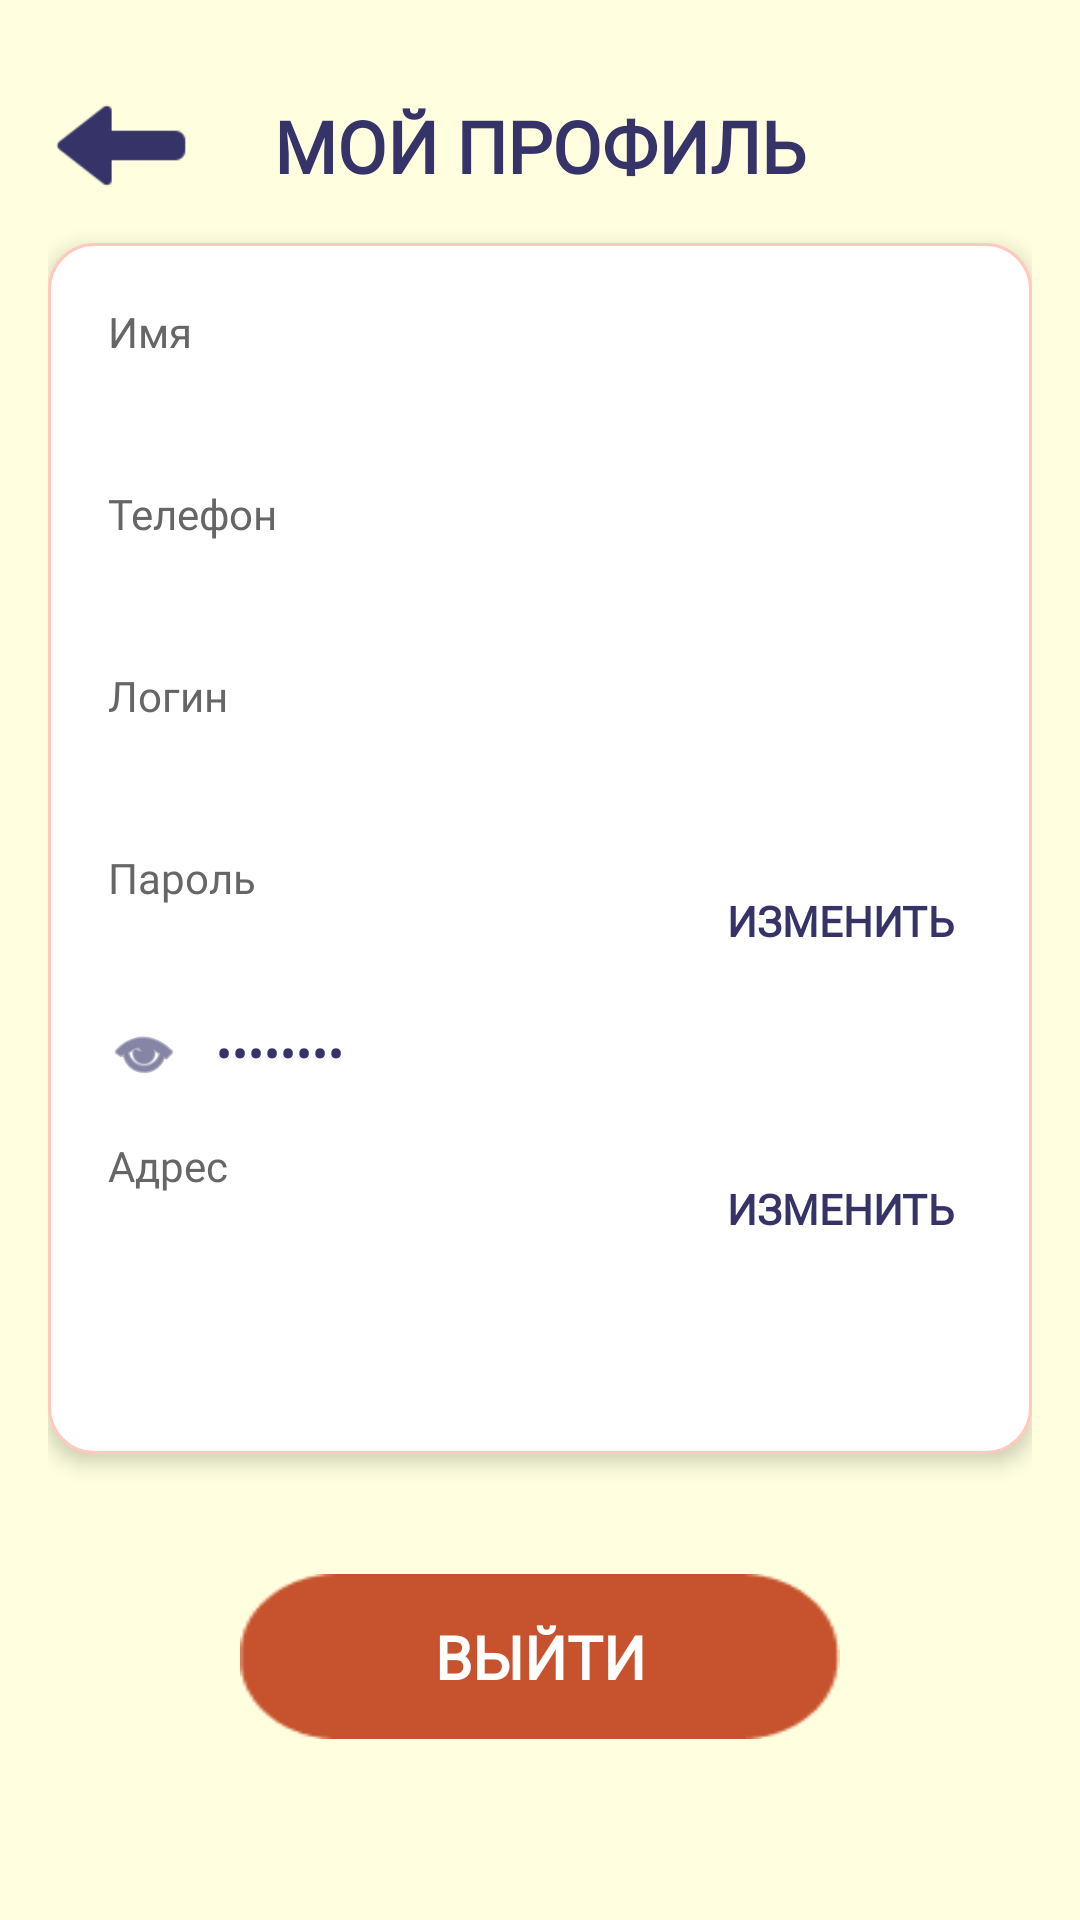

Icons on this 1080x1920 Android screen, each with the point to tap as (x,y):
view: (144,1054)
